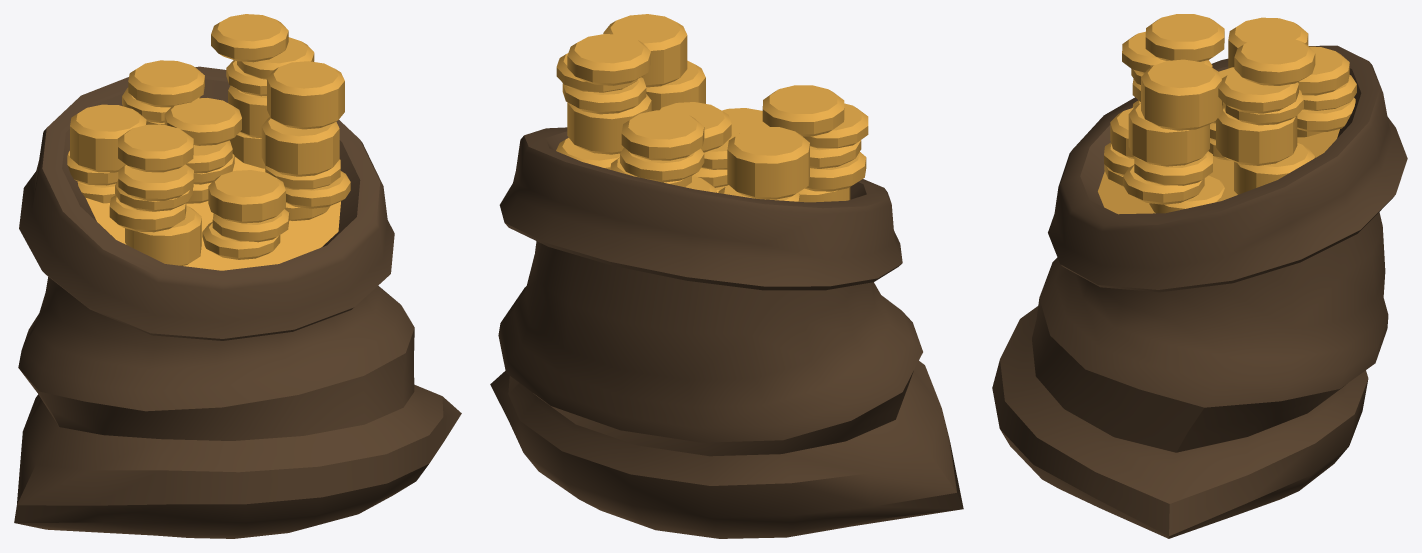
The model's file is Prop_GoldBag.glb.
3 views of the same model, side by side, from view 1: azimuth 30°, elevation 25°; view 2: azimuth 150°, elevation 25°; view 3: azimuth 270°, elevation 25° (orthographic). The views are drawn at different scales.
Visible parts, largest first — view 1: Prop_GoldBag; view 2: Prop_GoldBag; view 3: Prop_GoldBag.
Boxes of the visible parts, x1=… form: Prop_GoldBag: x1=14, y1=14, x2=461, y2=538; Prop_GoldBag: x1=490, y1=14, x2=963, y2=538; Prop_GoldBag: x1=992, y1=14, x2=1407, y2=538.
Bounding box in the file's own units: 0.6661 × 0.6153 × 0.5187.
1 material, 1 textured.
